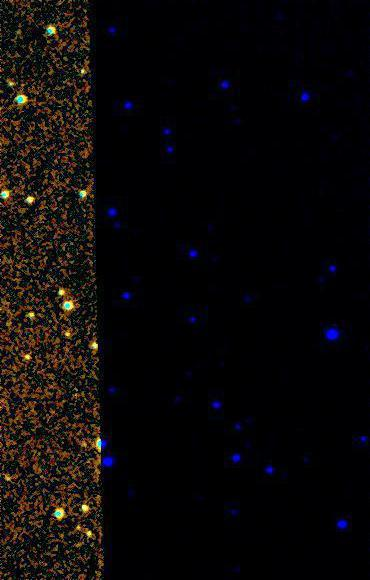star: (61, 513, 91, 543)
